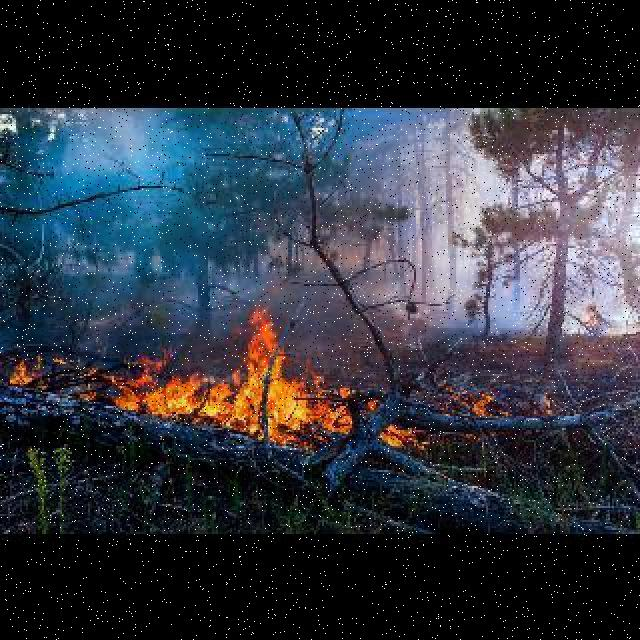fire: (152, 318, 352, 443)
